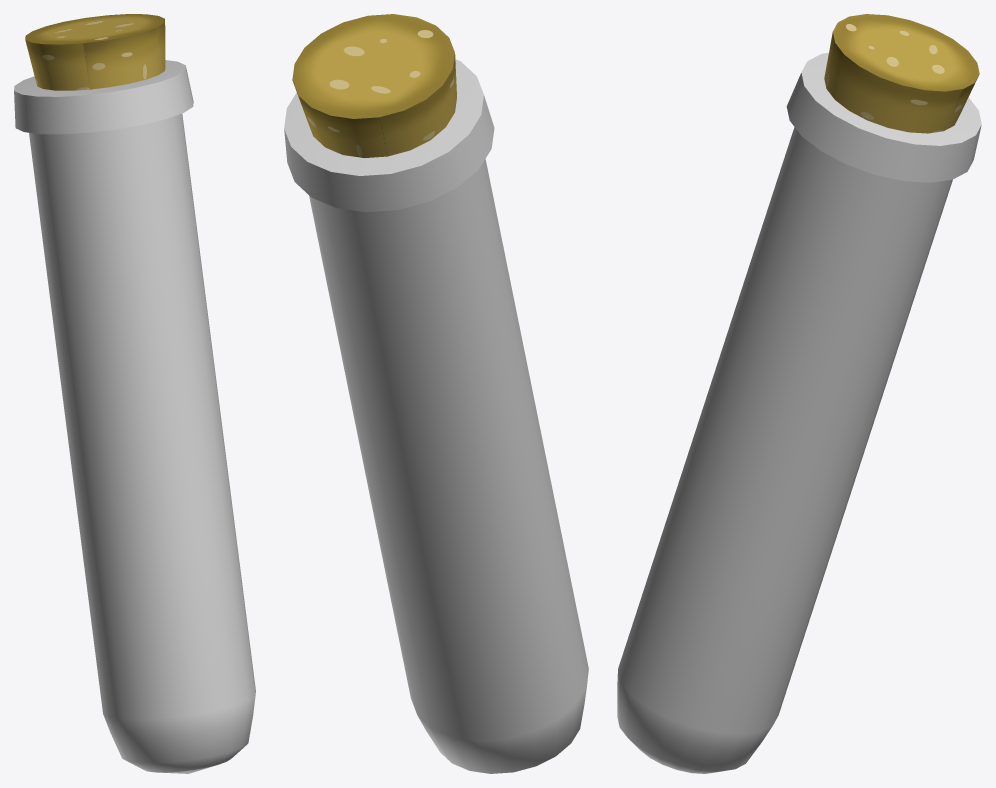
Rendered from TestTube.fbx.
The picture shows the model from 3 angles, left to right: view 1: azimuth 30°, elevation 25°; view 2: azimuth 150°, elevation 25°; view 3: azimuth 270°, elevation 25°; orthographic projection. The views are drawn at different scales.
Visible parts, largest first — view 1: pCylinder8, pCylinder9; view 2: pCylinder8, pCylinder9; view 3: pCylinder8, pCylinder9.
Boxes of the visible parts, box(x1,y1,x2,y2) form: pCylinder8: box(14, 60, 255, 773); pCylinder9: box(25, 14, 165, 90); pCylinder8: box(284, 59, 588, 773); pCylinder9: box(292, 14, 456, 157); pCylinder8: box(617, 52, 981, 773); pCylinder9: box(824, 14, 979, 133).
Bounding box in the file's own units: 8.93 × 37.16 × 16.7.
